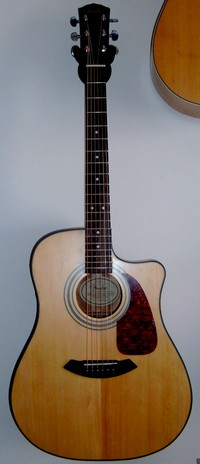guitar: (6, 1, 195, 462)
